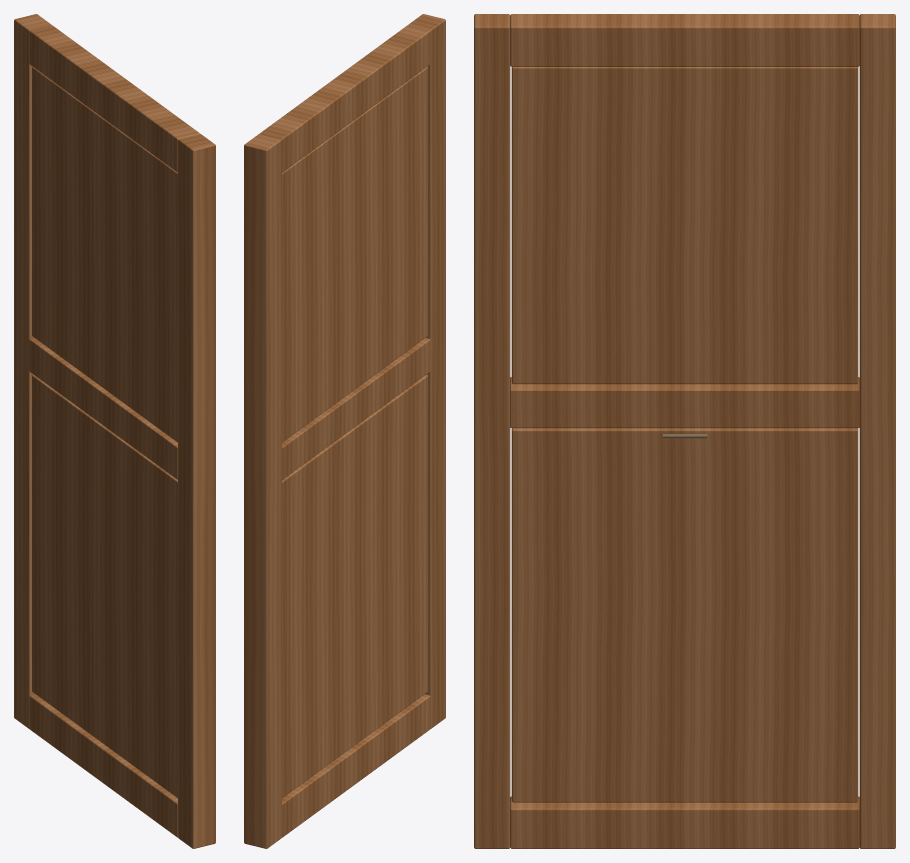
Rendered from door_v06a.glb.
The picture shows the model from 3 angles, left to right: view 1: azimuth 30°, elevation 25°; view 2: azimuth 150°, elevation 25°; view 3: azimuth 270°, elevation 25°; orthographic projection. The views are drawn at different scales.
Parts seen in each view (by area): view 1: VIS_DoorPanelAndFrame; view 2: VIS_DoorPanelAndFrame; view 3: VIS_DoorPanelAndFrame.
Part boxes in pixels (x1,y1,x2,y2): VIS_DoorPanelAndFrame: (14,14,215,848); VIS_DoorPanelAndFrame: (244,14,445,848); VIS_DoorPanelAndFrame: (474,14,895,848).
Size of the model in its own units: 0.075 by 2.13 by 0.99.
2 materials, 1 textured.
